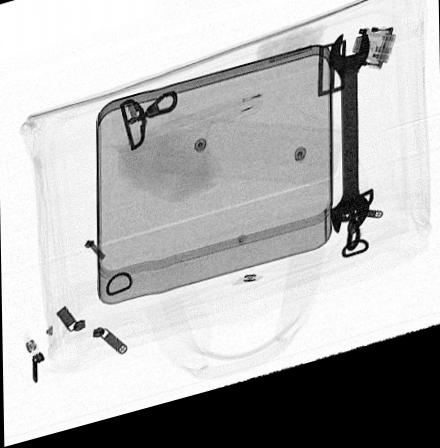Wrench: (326, 44, 371, 255)
